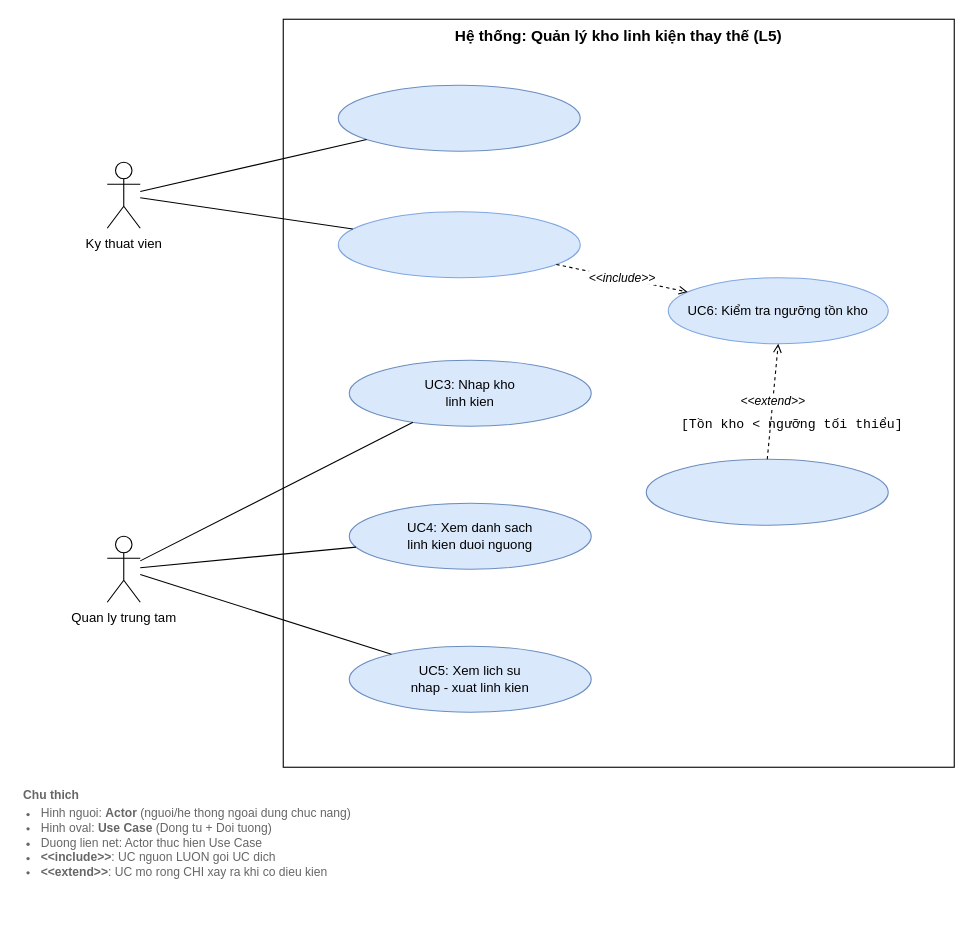
The diagram is 974 pixels wide and 952 high, and some of its shapes have lost their labels. The shapes that lost their labels are listed below. From the top down, each one's centre as x and y in pixels, then its label:
the point at 458,117: UC1: Tra cuu ton kho linh kien
the point at 458,244: UC2: Xuat linh kien cho phieu bao hanh
the point at 766,491: UC7: Sinh cảnh báo tồn kho thấp
